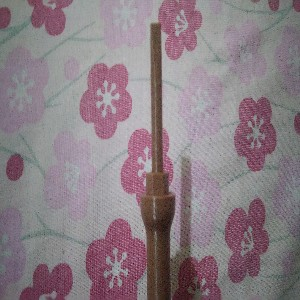obeng: (137, 20, 177, 300)
